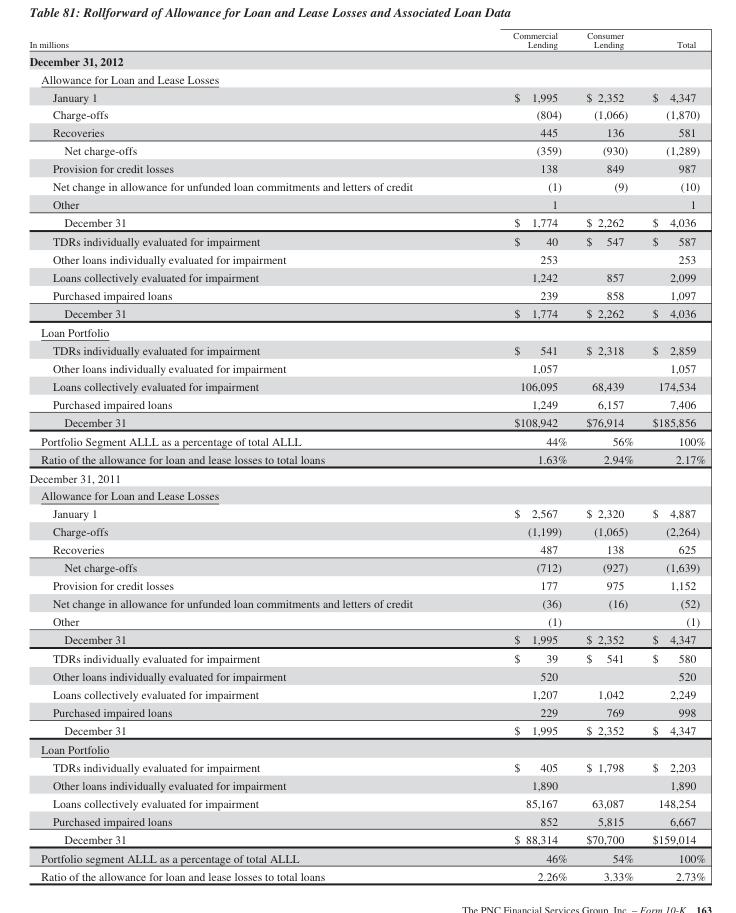table: (28, 29, 704, 882)
table column: (28, 29, 462, 882), (462, 29, 576, 882), (576, 29, 642, 882), (642, 29, 704, 882)
table column header: (28, 29, 704, 51)
table projected row header: (28, 51, 704, 69), (28, 69, 704, 87), (28, 322, 704, 340), (28, 468, 704, 486), (28, 486, 704, 504), (28, 739, 704, 757)
table row: (28, 29, 704, 51), (28, 231, 704, 250), (28, 412, 704, 431), (28, 449, 704, 468), (28, 648, 704, 667), (28, 720, 704, 739), (28, 829, 704, 848), (28, 51, 704, 69), (28, 69, 704, 87), (28, 87, 704, 105), (28, 105, 704, 123), (28, 123, 704, 141), (28, 141, 704, 159), (28, 159, 704, 177), (28, 177, 704, 195), (28, 195, 704, 213), (28, 213, 704, 231), (28, 250, 704, 268), (28, 268, 704, 286), (28, 286, 704, 304), (28, 304, 704, 322), (28, 322, 704, 340), (28, 340, 704, 358), (28, 358, 704, 376), (28, 376, 704, 394), (28, 394, 704, 412), (28, 431, 704, 449), (28, 468, 704, 486), (28, 486, 704, 504), (28, 504, 704, 522), (28, 522, 704, 540), (28, 540, 704, 558), (28, 558, 704, 576), (28, 576, 704, 594), (28, 594, 704, 612), (28, 612, 704, 630), (28, 630, 704, 648), (28, 667, 704, 685), (28, 685, 704, 703), (28, 739, 704, 757), (28, 757, 704, 775), (28, 775, 704, 793), (28, 793, 704, 811), (28, 811, 704, 829), (28, 848, 704, 866), (28, 703, 704, 720), (28, 866, 704, 882)
